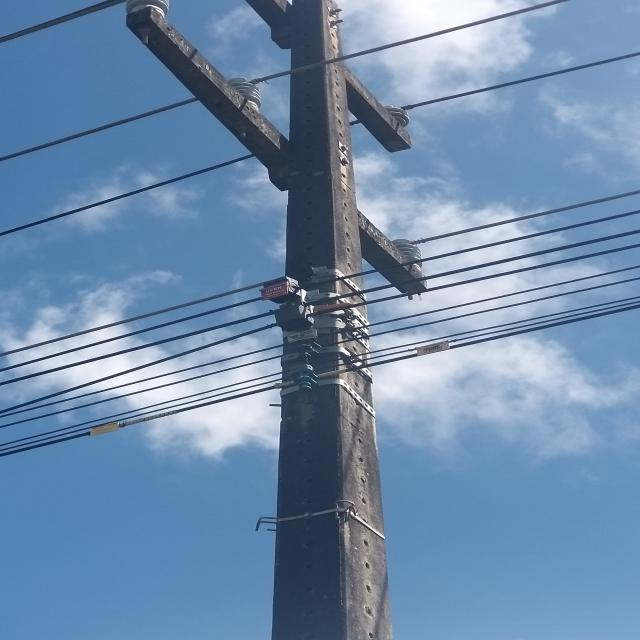Plaqueta: (262, 282, 290, 300)
